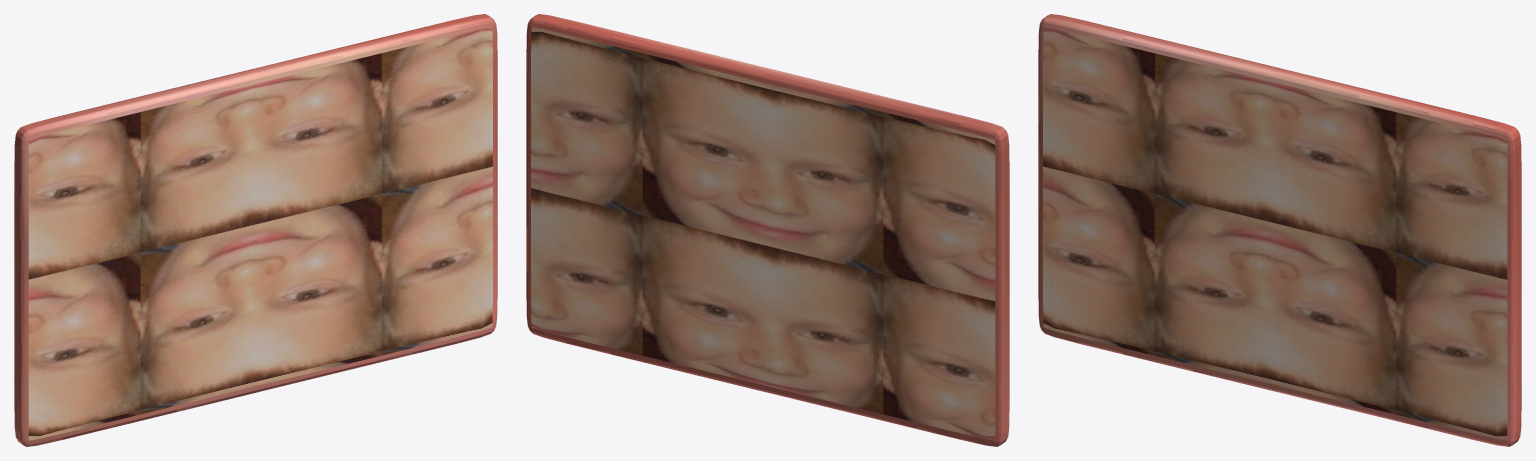
The model's file is RegularKeycardPickup.fbx.
3 renders of one model, left to right at view 1: azimuth 30°, elevation 25°; view 2: azimuth 150°, elevation 25°; view 3: azimuth 330°, elevation 25°, orthographic.
Visible parts, largest first — view 1: Keycard Target; view 2: Keycard Target; view 3: Keycard Target.
Boxes of the visible parts, box(x1,y1,x2,y2) form: Keycard Target: box(14, 14, 497, 446); Keycard Target: box(526, 14, 1009, 446); Keycard Target: box(1038, 14, 1521, 446).
Bounding box in the file's own units: 0.2298 × 0.1469 × 0.00821.
1 material, 1 textured.
